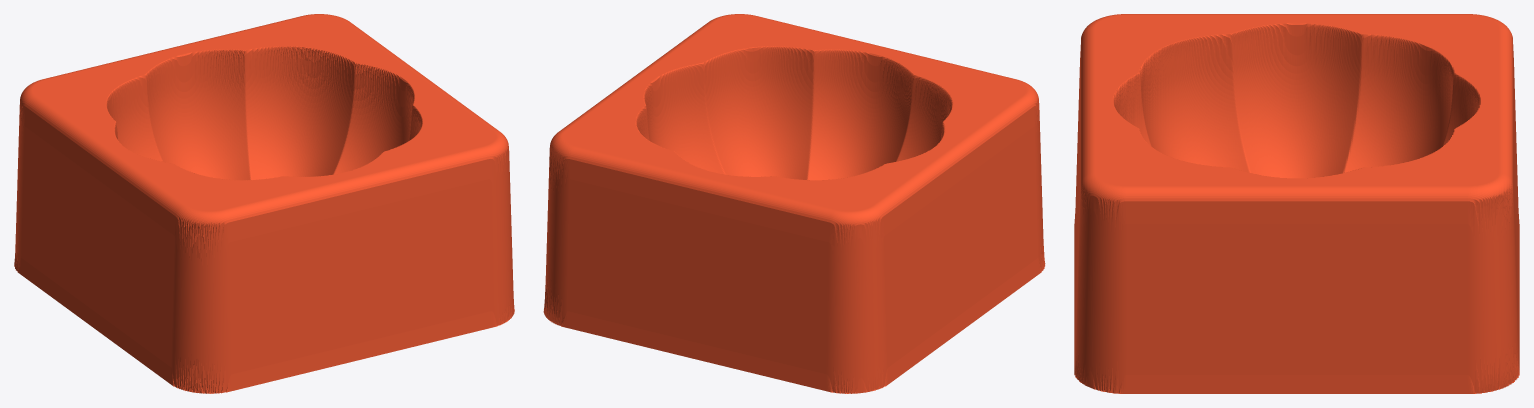
The model's file is mold.glb.
The picture shows the model from 3 angles, left to right: view 1: azimuth 30°, elevation 25°; view 2: azimuth 150°, elevation 25°; view 3: azimuth 270°, elevation 25°; orthographic projection. The views are drawn at different scales.
Visible parts, largest first — view 1: geometry_0; view 2: geometry_0; view 3: geometry_0.
Part boxes in pixels (x1,y1,x2,y2): geometry_0: [14, 14, 514, 393]; geometry_0: [543, 14, 1045, 393]; geometry_0: [1074, 14, 1519, 393].
Bounding box in the file's own units: 0.0778 × 0.0384 × 0.0778.
